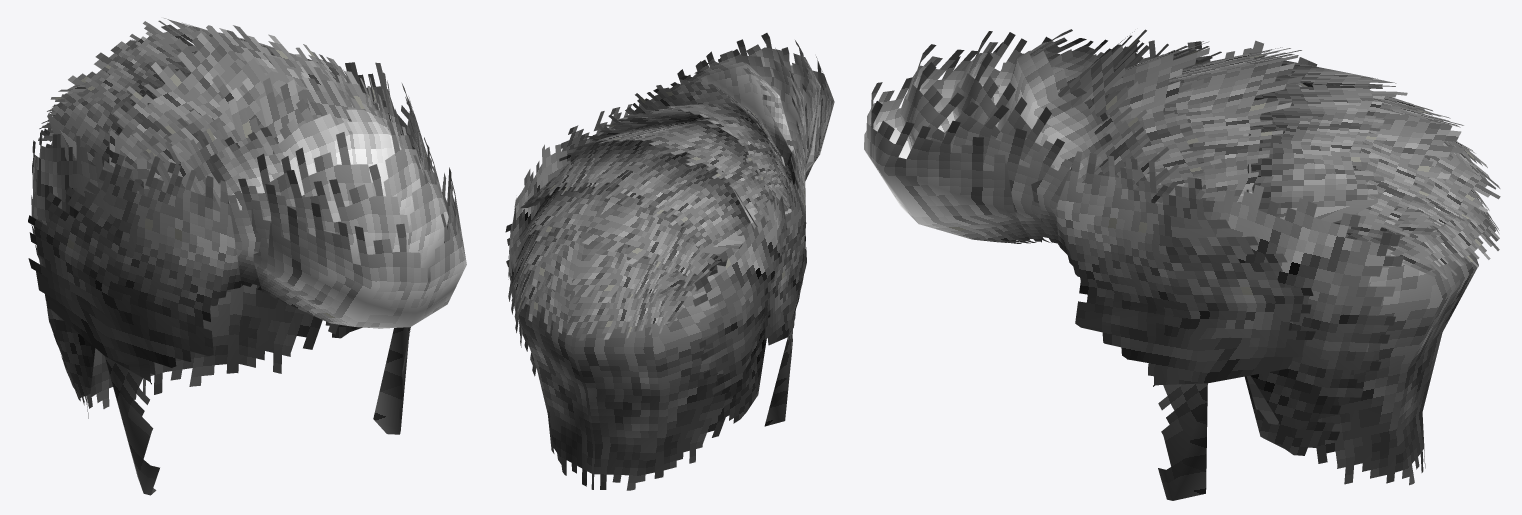
File: m_hair008.obj
3 renders of one model, left to right at view 1: azimuth 30°, elevation 25°; view 2: azimuth 150°, elevation 25°; view 3: azimuth 270°, elevation 25°, orthographic. The views are drawn at different scales.
Parts seen in each view (by area): view 1: editpl_m-0000-1830; view 2: editpl_m-0000-1830; view 3: editpl_m-0000-1830.
Part boxes in pixels (x1=…): editpl_m-0000-1830: x1=28, y1=18, x2=466, y2=495; editpl_m-0000-1830: x1=505, y1=33, x2=834, y2=490; editpl_m-0000-1830: x1=864, y1=29, x2=1500, y2=500.
Bounding box in the file's own units: 18.1 × 23.23 × 29.14.
1 material, 1 textured.
